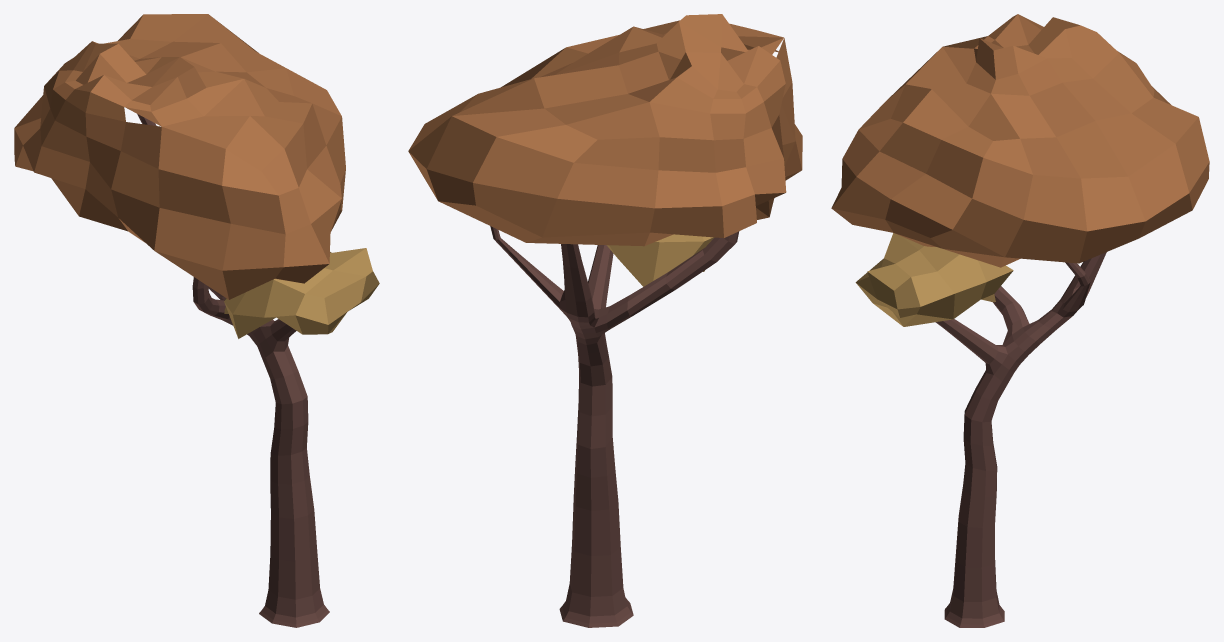
Rendered from commontree_autumn4.glb.
3 views of the same model, side by side, from view 1: azimuth 30°, elevation 25°; view 2: azimuth 150°, elevation 25°; view 3: azimuth 270°, elevation 25° (orthographic). The views are drawn at different scales.
Parts seen in each view (by area): view 1: CommonTree_Autumn_4; view 2: CommonTree_Autumn_4; view 3: CommonTree_Autumn_4.
Boxes of the visible parts, bbox=[...] form: CommonTree_Autumn_4: bbox=[14, 14, 379, 627]; CommonTree_Autumn_4: bbox=[408, 14, 802, 627]; CommonTree_Autumn_4: bbox=[831, 14, 1209, 627].
Size of the model in its own units: 1.58 by 2.78 by 1.8.
